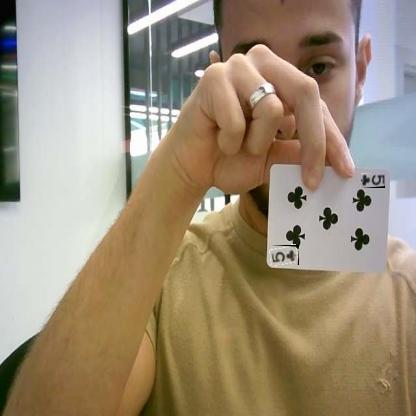5C: (270, 245, 299, 265), (361, 173, 385, 188)
